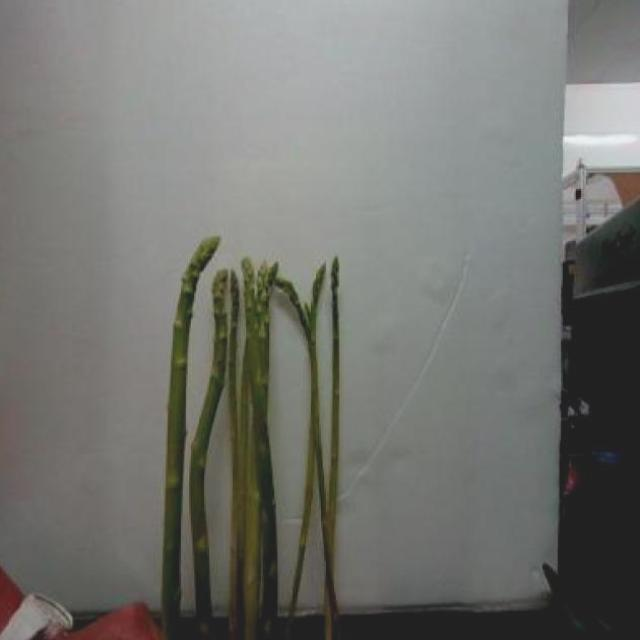aspargus: (162, 236, 221, 640), (189, 269, 230, 640)
